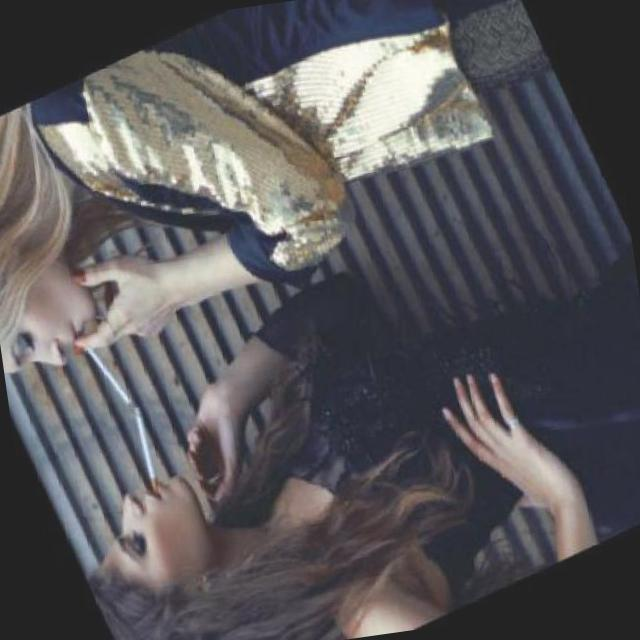smoke: (74, 231, 257, 416)
